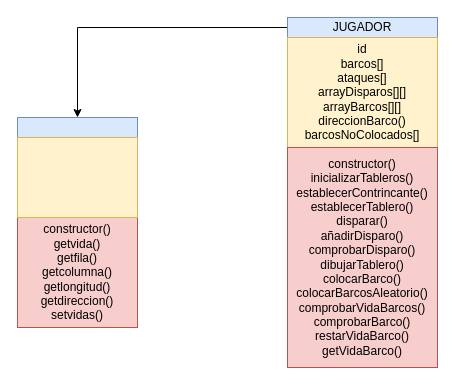
This 455x385 diagram has some shape labels left out. The centre of each missing label's shape, as x and y in pixels:
"BARCO" belongs at (77,127).
"fila columna longitud direccion vidas" belongs at (77,177).
